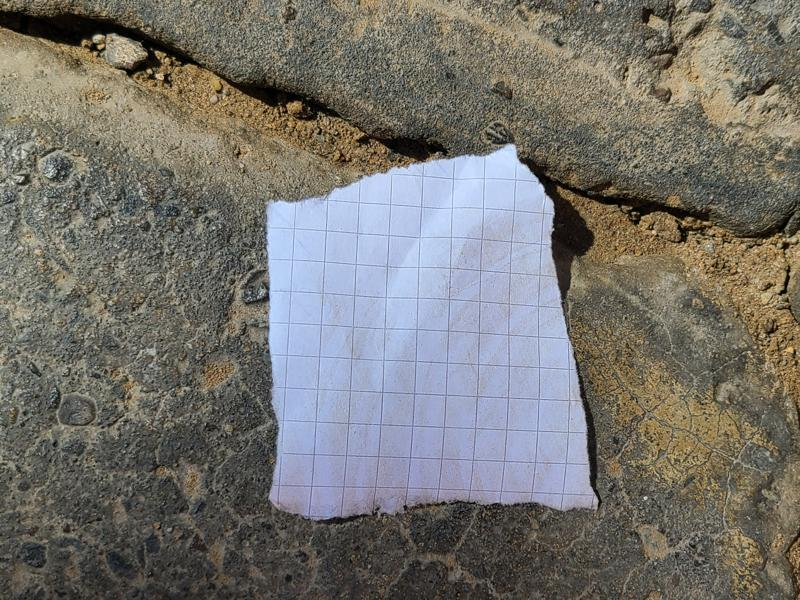papel: (264, 146, 599, 523)
